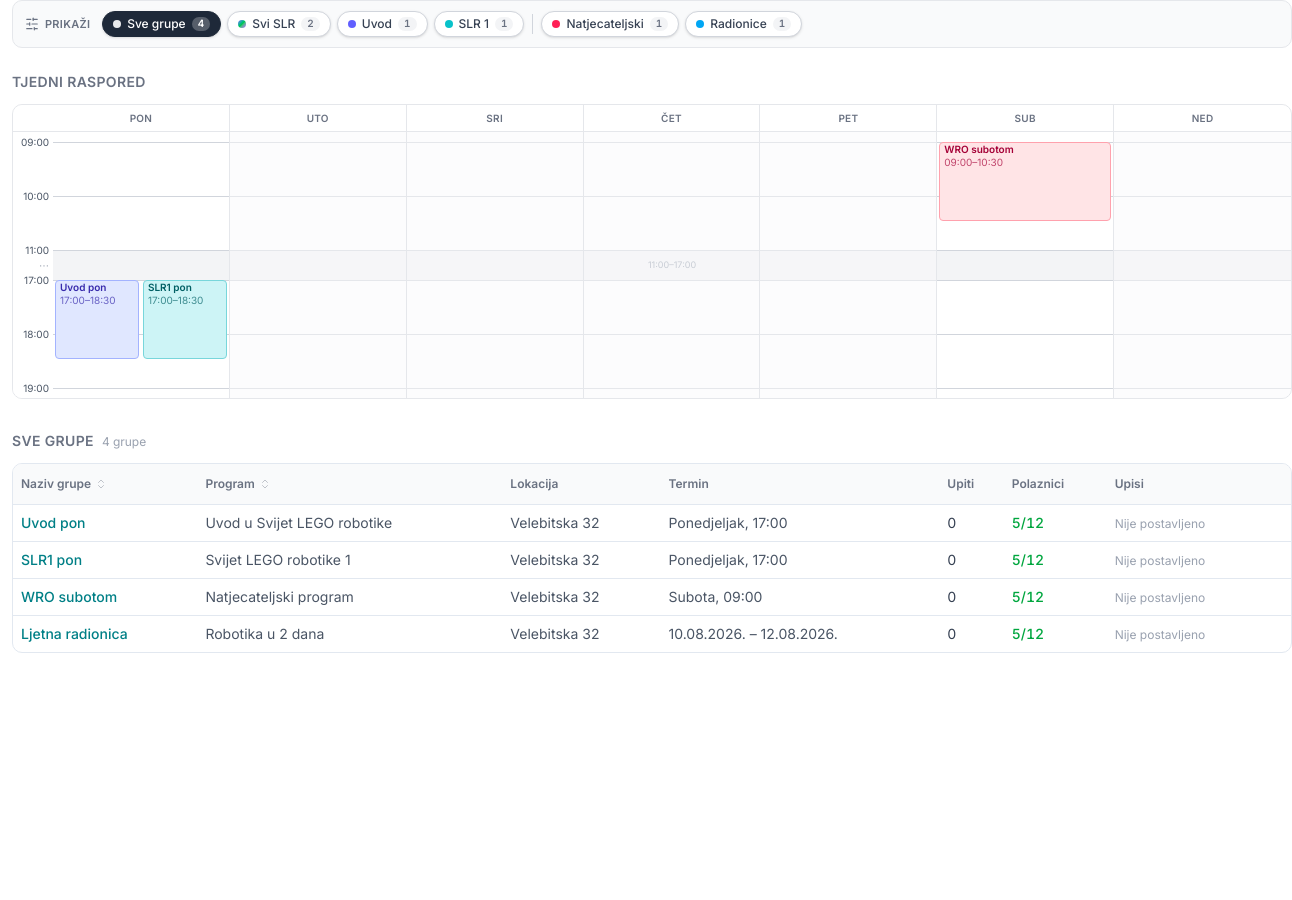
Scenario: GroupsBoard — one filter over the grid and the table › names the current selection above the table
Click the button "Uvod 1" at (382, 24), box [337,11,428,37]
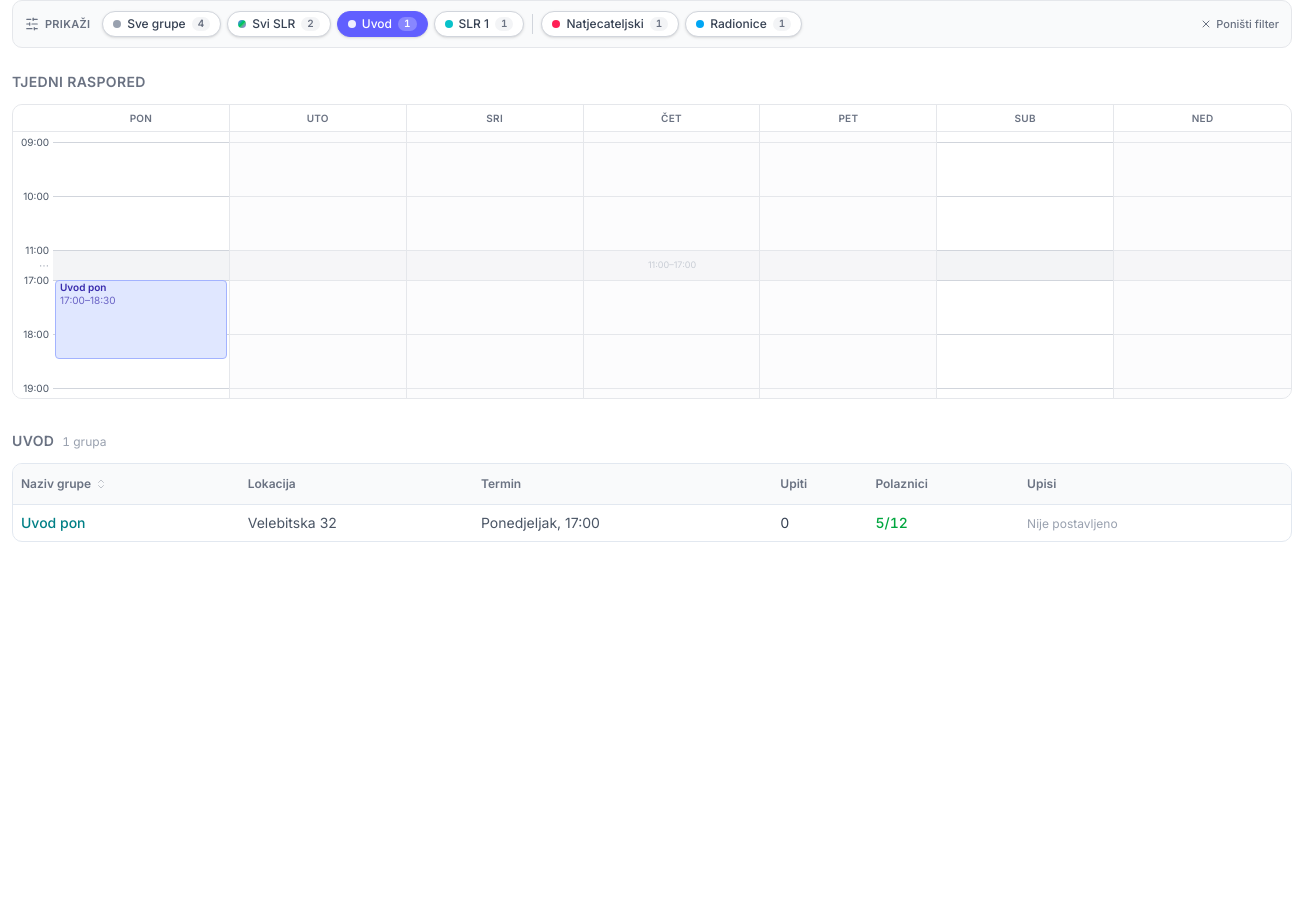
Expected: the heading "Uvod" is shown, [12,431,54,451]
Expected: the text "1 grupa" is shown, [62,434,106,450]
